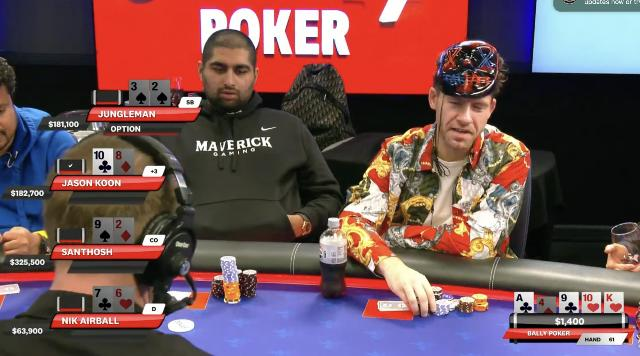10C: (94, 149, 112, 173)
10H: (582, 293, 600, 313)
2D: (115, 218, 133, 242)
2S: (152, 81, 168, 106)
3S: (130, 81, 148, 106)
4D: (537, 297, 555, 313)
6H: (115, 288, 133, 310)
7C: (94, 286, 112, 312)
8D: (115, 150, 133, 174)
9C: (560, 292, 578, 314)
9S: (94, 218, 112, 244)
AC: (515, 292, 533, 314)
KH: (605, 293, 623, 313)
